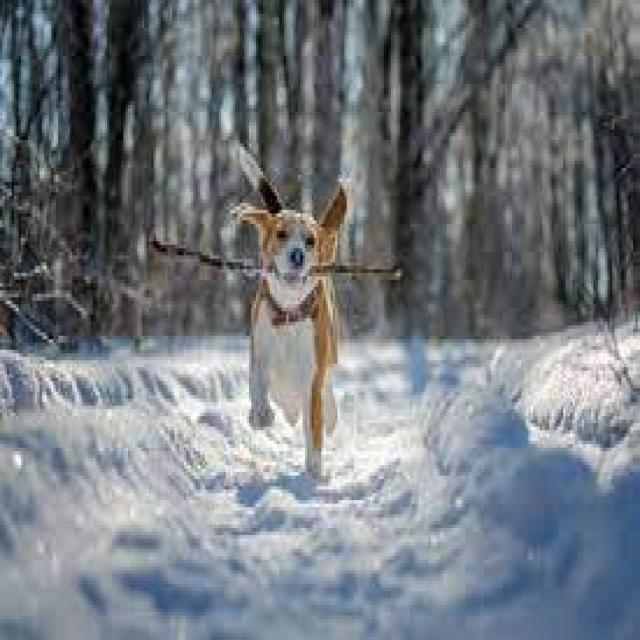Dog: (235, 139, 356, 476)
